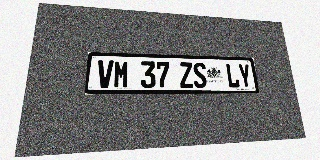3: (141, 61, 155, 88)
7: (155, 61, 170, 88)
L: (225, 63, 240, 88)
M: (113, 60, 129, 88)
S: (192, 62, 207, 88)
V: (96, 60, 114, 88)
Y: (237, 64, 252, 88)
Z: (179, 62, 194, 88)
